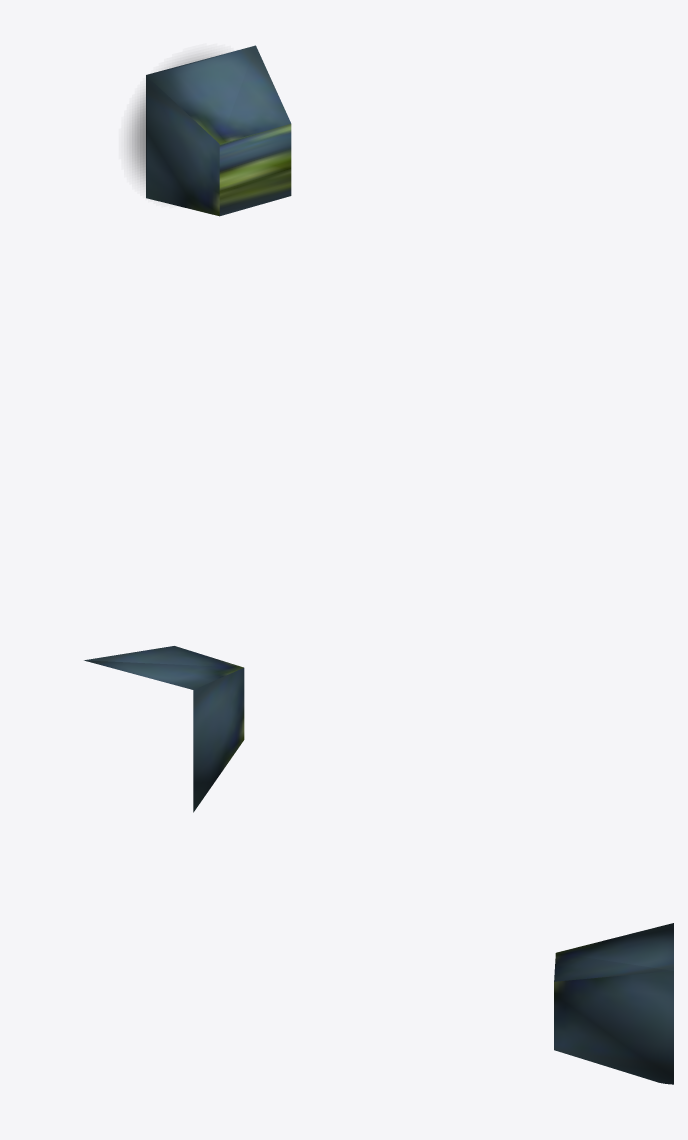
The model's file is prop_DL_post_three_light.glb.
3 views of the same model, one above another, from view 1: azimuth 30°, elevation 25°; view 2: azimuth 150°, elevation 25°; view 3: azimuth 270°, elevation 25° (orthographic). The views are drawn at different scales.
Visible parts, largest first — view 1: o15, g9; view 2: o15; view 3: o15.
Boxes of the visible parts, left/top/right/bottom form: o15: left=146, top=45, right=291, bottom=216; g9: left=129, top=55, right=216, bottom=183; o15: left=84, top=646, right=244, bottom=812; o15: left=554, top=923, right=673, bottom=1084.
Bounding box in the file's own units: 5.82 × 3.2 × 11.3.
Materials: 2 (2 with a texture image).
